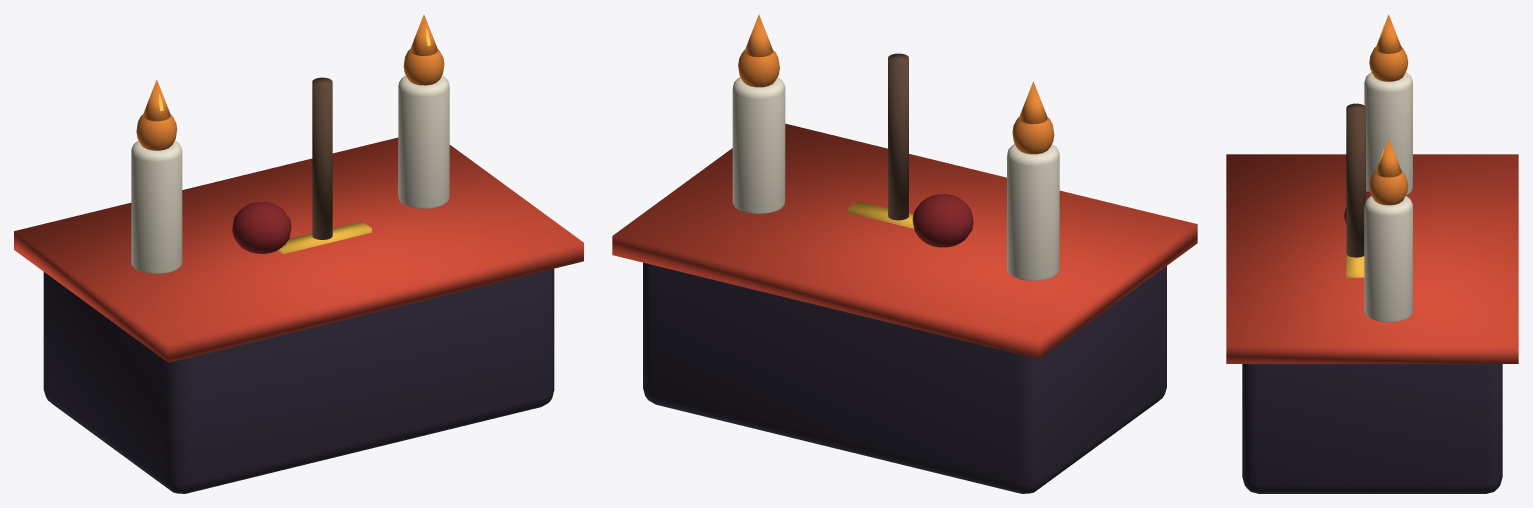
Rendered from InitiationRite.fbx.
The picture shows the model from 3 angles, left to right: view 1: azimuth 30°, elevation 25°; view 2: azimuth 150°, elevation 25°; view 3: azimuth 270°, elevation 25°; orthographic projection. The views are drawn at different scales.
Visible parts, largest first — view 1: InitiationRite; view 2: InitiationRite; view 3: InitiationRite.
Part boxes in pixels (<box>): InitiationRite: <box>14,14,583,493</box>; InitiationRite: <box>612,14,1197,493</box>; InitiationRite: <box>1226,14,1518,493</box>.
Bounding box in the file's own units: 0.56 × 0.454 × 0.36.
